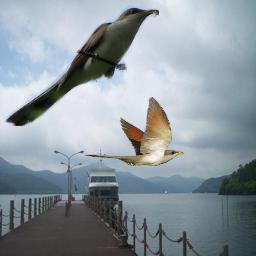Cuckoo: (5, 5, 159, 126), (84, 97, 184, 166)
